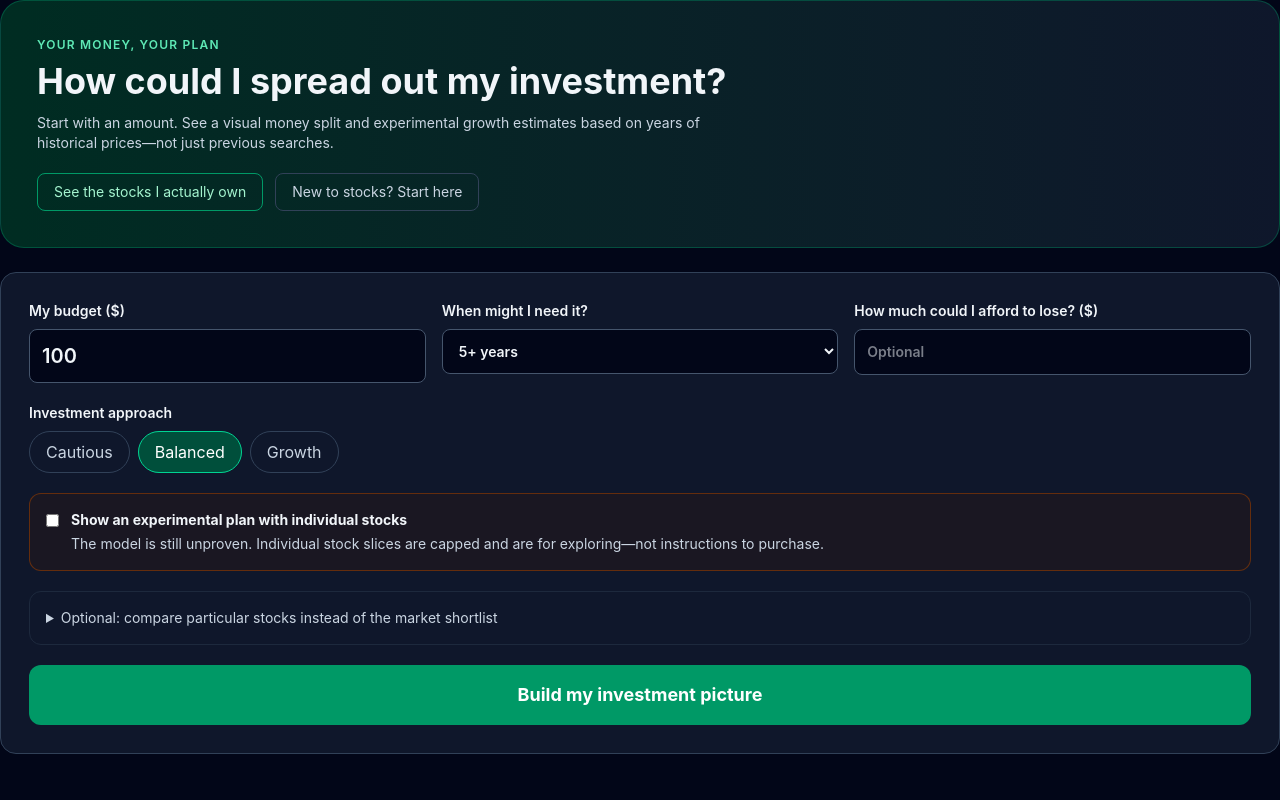
Test case: Visual investment home › rejects an impossible budget before any provider request
Replace the text in the field named "Investment budget" with "0": (227, 356) [29,329,426,383]
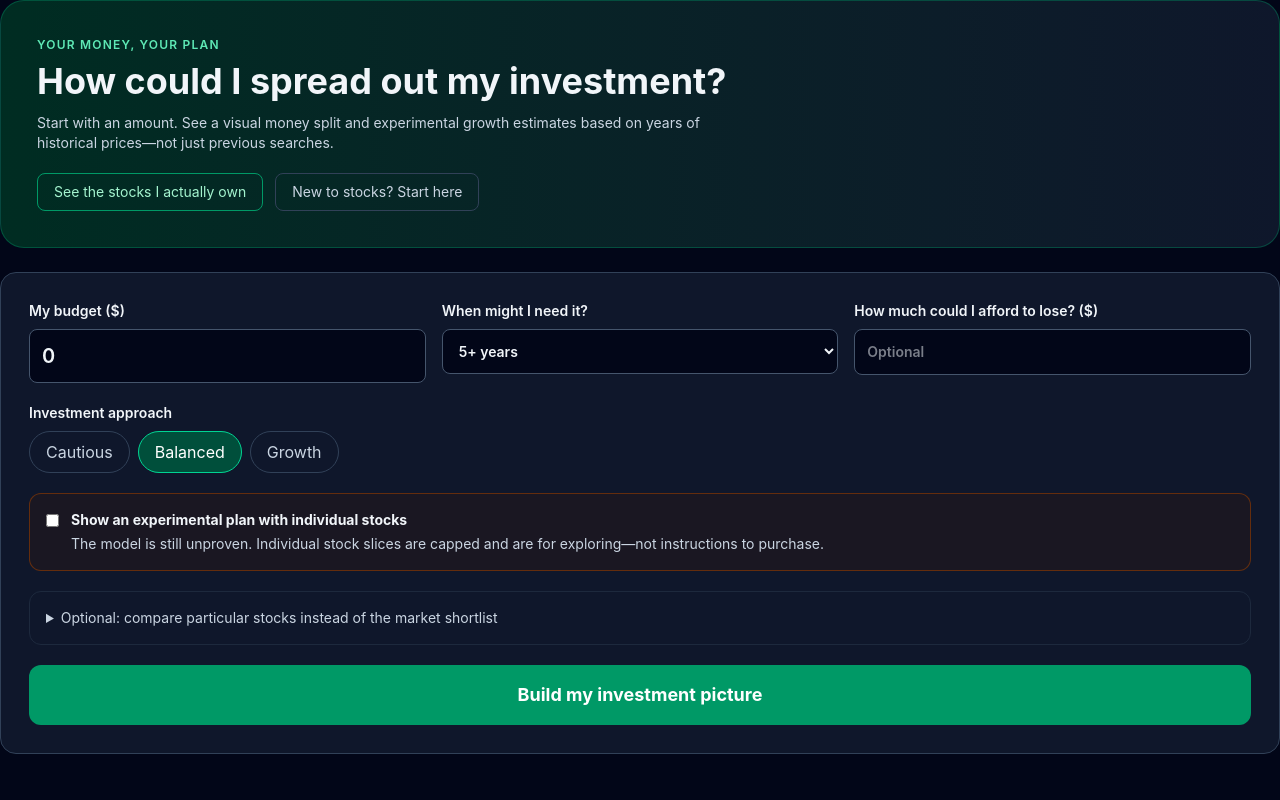
Click the button "Build my investment picture": click(640, 695) [29,665,1251,725]
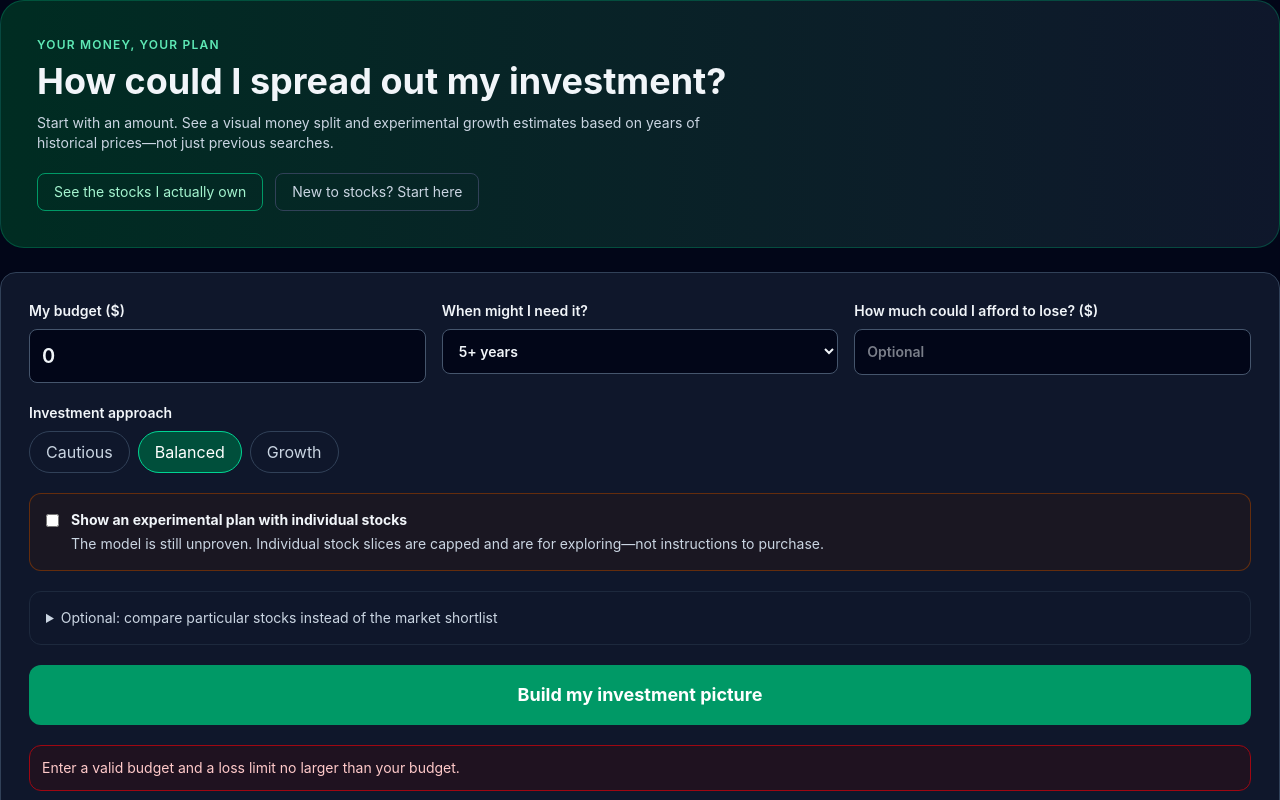
Now the message shows "Enter a valid budget", box [42,759,460,776]
